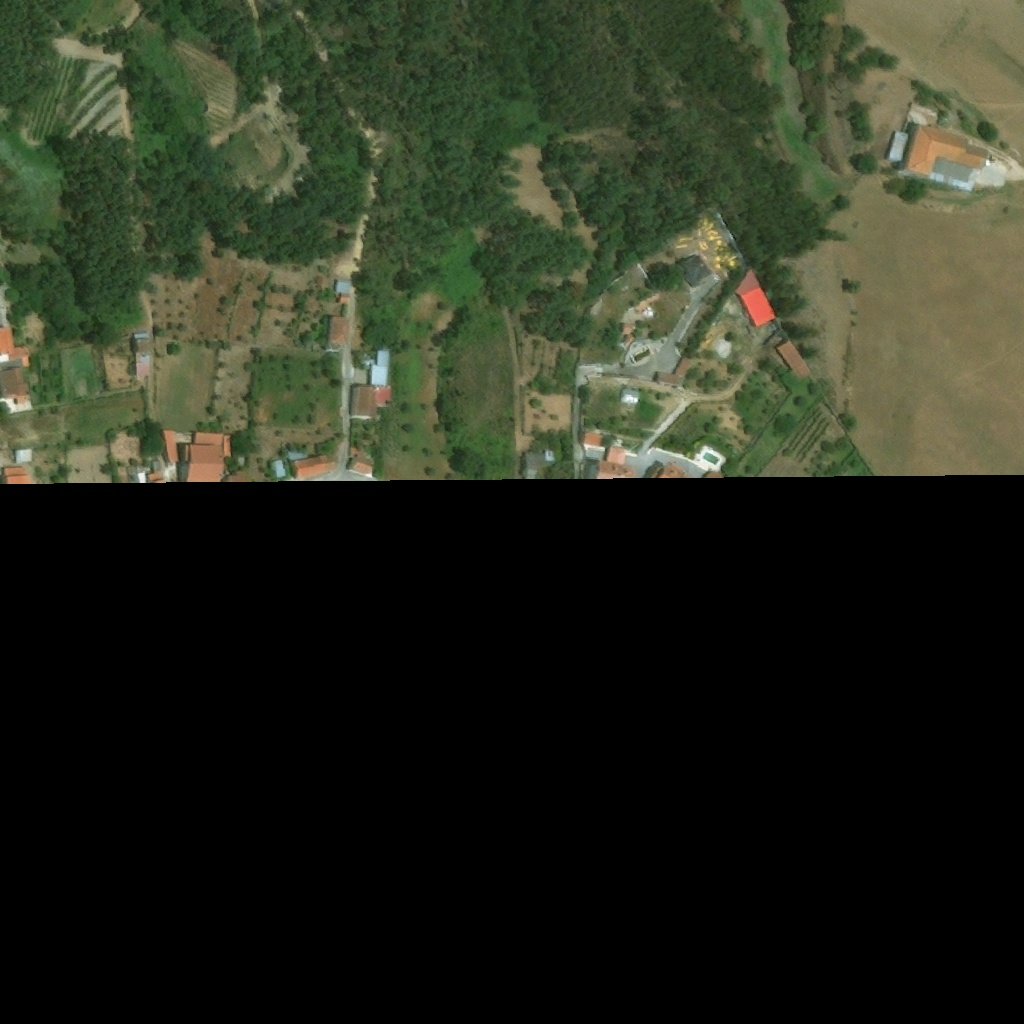0 no-damage: (901, 123, 989, 190), (0, 322, 40, 404), (160, 430, 232, 474), (737, 269, 777, 329), (774, 338, 812, 380), (674, 253, 713, 290), (350, 384, 391, 419), (588, 446, 640, 470), (656, 355, 693, 385), (289, 451, 338, 473), (131, 331, 151, 377), (326, 315, 351, 346), (348, 444, 374, 472), (522, 449, 555, 470), (370, 349, 390, 383), (886, 131, 907, 161), (579, 431, 607, 451), (618, 386, 643, 406), (334, 280, 350, 305), (2, 465, 30, 475), (287, 447, 307, 461), (14, 448, 32, 463), (621, 334, 636, 348), (269, 459, 284, 473), (0, 306, 10, 325), (620, 323, 633, 333)
